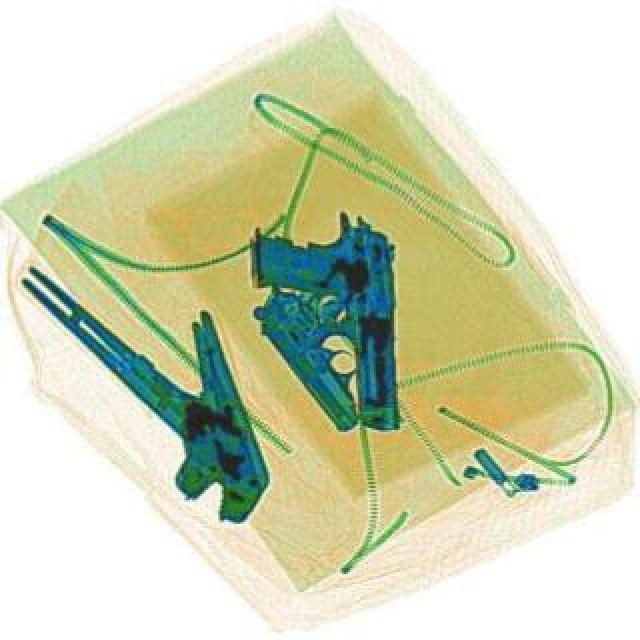gun: (246, 258, 424, 434), (248, 218, 392, 430)
